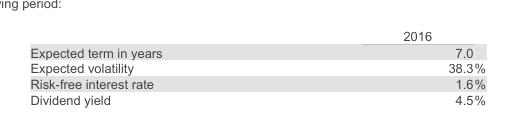table: (29, 28, 484, 106)
table column: (29, 28, 281, 106), (281, 28, 484, 106)
table column header: (29, 28, 484, 43)
table row: (29, 43, 484, 59), (29, 59, 484, 75), (29, 75, 484, 91), (29, 28, 484, 43), (29, 91, 484, 106)
